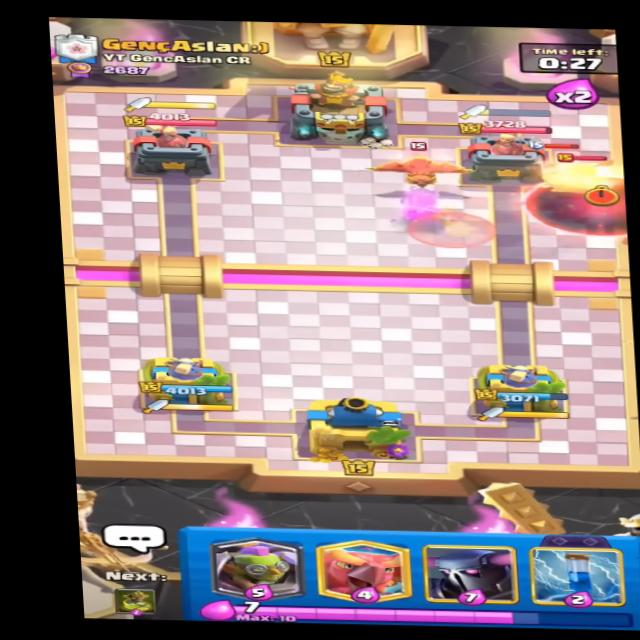phoenix: (362, 136, 478, 188)
